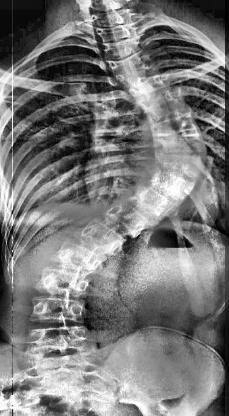Vertebrae: (50, 241, 108, 277), (24, 324, 89, 356), (72, 218, 126, 256), (101, 200, 150, 240), (147, 170, 201, 206), (28, 296, 88, 326), (36, 266, 92, 298), (131, 188, 179, 224), (153, 152, 203, 184), (150, 130, 204, 156), (134, 84, 182, 112), (98, 34, 144, 62), (144, 100, 196, 124), (114, 60, 161, 86), (126, 72, 172, 98), (150, 116, 202, 139), (107, 49, 151, 75)
